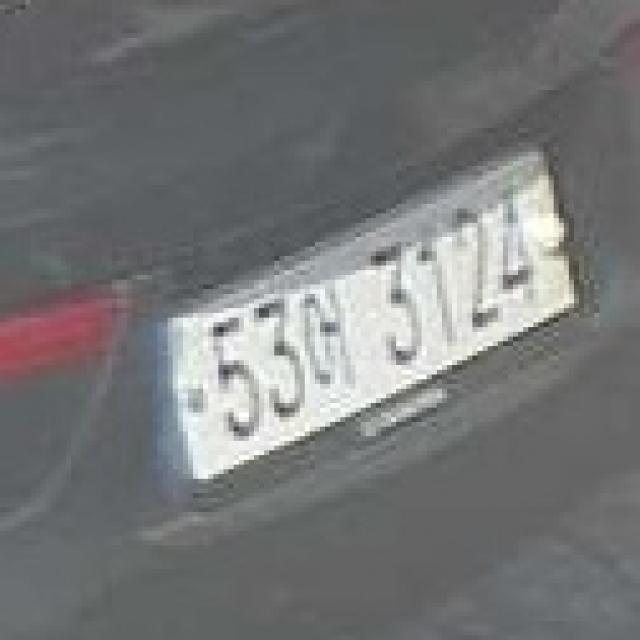1: (411, 194, 452, 356)
2: (442, 180, 503, 346)
3: (371, 228, 422, 388), (254, 275, 305, 431)
4: (488, 161, 544, 318)
5: (208, 284, 259, 450)
eo: (294, 265, 366, 403)
license_plate: (158, 138, 594, 502)
